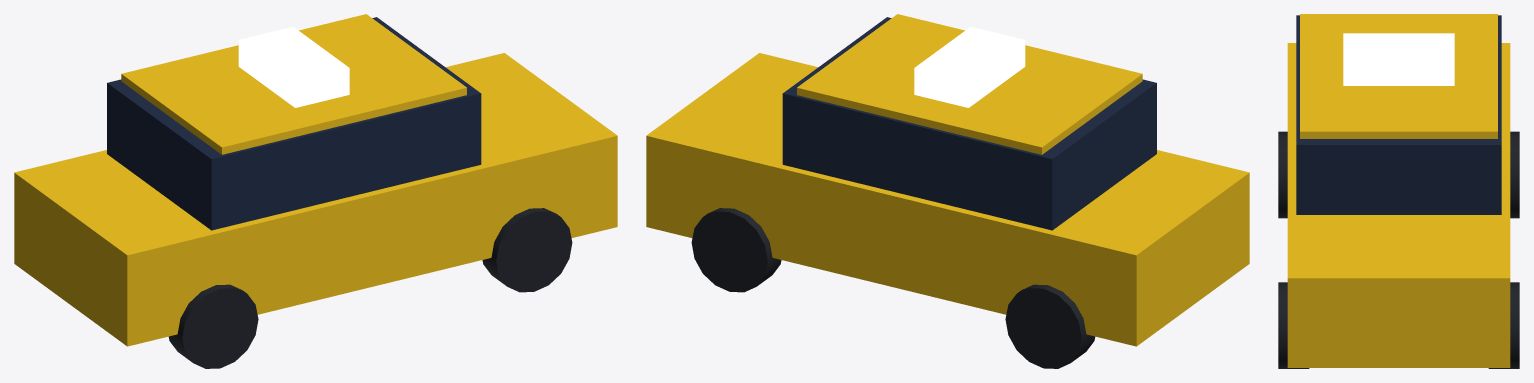
File: taxi.glb
The picture shows the model from 3 angles, left to right: view 1: azimuth 30°, elevation 25°; view 2: azimuth 150°, elevation 25°; view 3: azimuth 270°, elevation 25°; orthographic projection.
Visible parts, largest first — view 1: Body, Cabin, Roof, Wheel (×2), Sign; view 2: Body, Cabin, Roof, Wheel (×2), Sign; view 3: Body, Roof, Cabin, Sign, Wheel (×4).
Boxes of the visible parts, x1,y1,x2,y2 form: Body: (14, 53, 617, 346); Cabin: (107, 17, 481, 230); Roof: (121, 14, 466, 154); Wheel (×2): (168, 208, 572, 368); Sign: (238, 26, 349, 107); Body: (646, 53, 1249, 346); Cabin: (782, 17, 1156, 230); Roof: (797, 14, 1142, 154); Wheel (×2): (691, 208, 1095, 368); Sign: (914, 26, 1025, 107); Body: (1287, 43, 1510, 367); Roof: (1300, 14, 1497, 138); Cabin: (1296, 15, 1501, 214); Sign: (1343, 33, 1454, 85); Wheel (×4): (1278, 131, 1519, 368).
Size of the model in its own units: 4.5 by 2.07 by 1.95.
